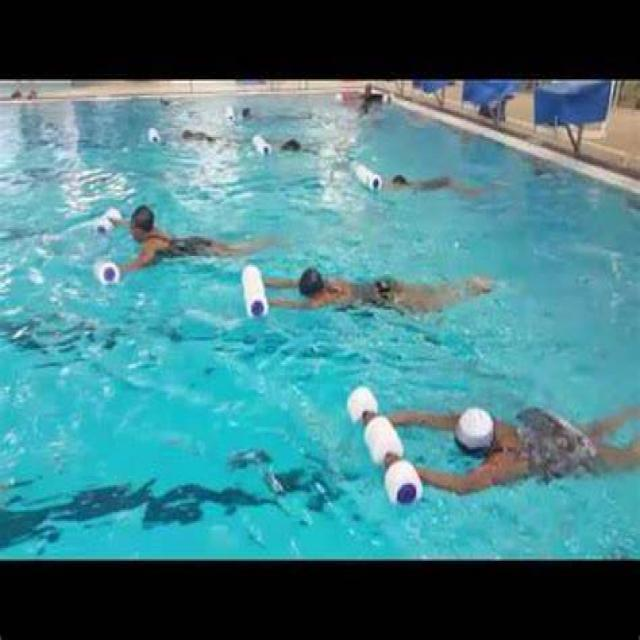Swimming: (345, 382, 640, 497), (256, 261, 494, 316), (107, 201, 286, 274), (359, 163, 490, 201)
